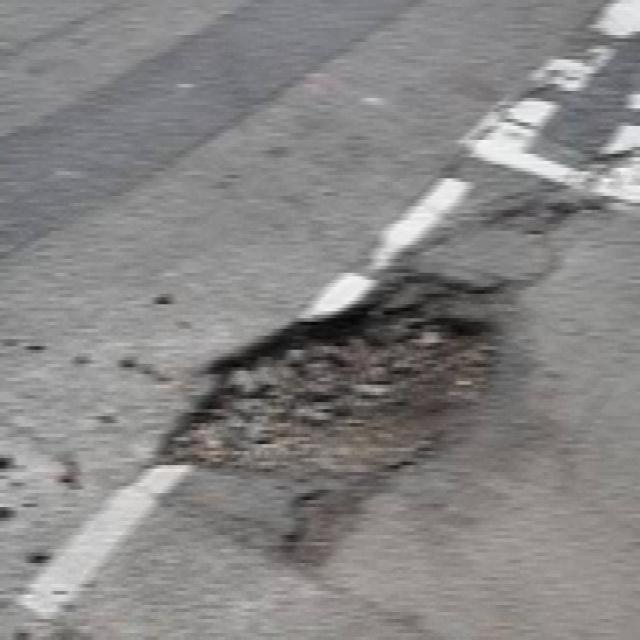Pothole: (123, 268, 555, 570)
